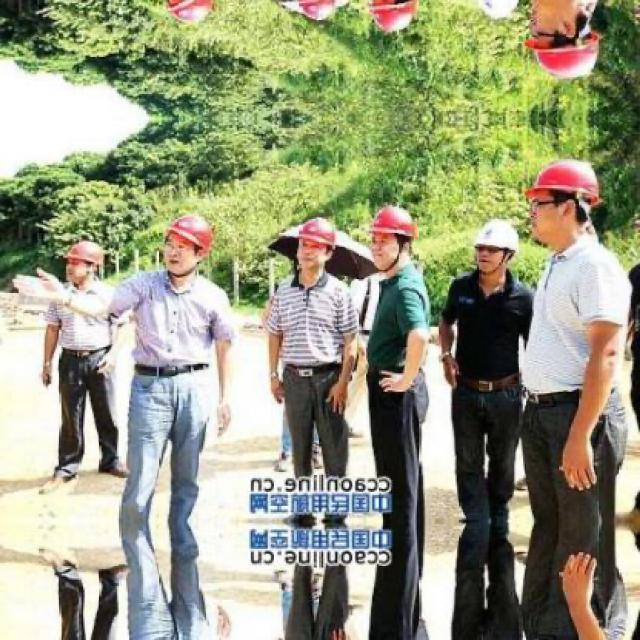helmet: (528, 156, 603, 244), (528, 0, 605, 83), (156, 210, 218, 278), (366, 204, 420, 268), (469, 218, 523, 280), (292, 215, 338, 278), (60, 237, 106, 287), (367, 0, 422, 35), (156, 0, 220, 29), (469, 0, 525, 22), (291, 0, 338, 25)
